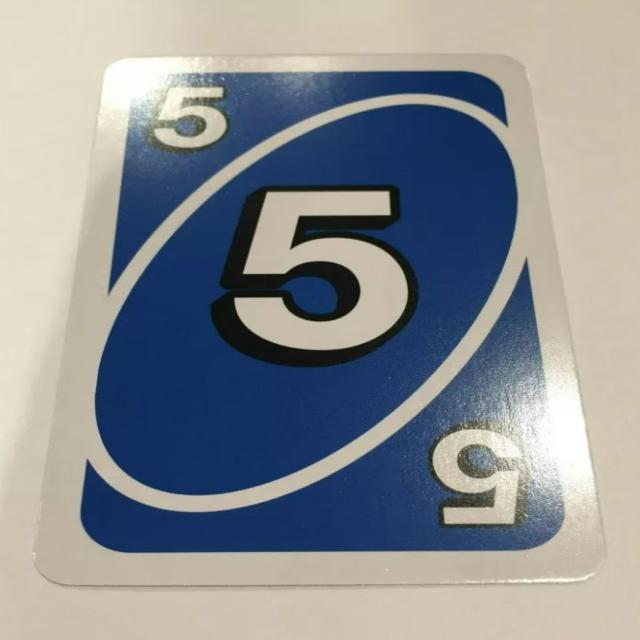Blue_Card: (70, 63, 573, 556)
Number_5: (144, 76, 238, 160)
